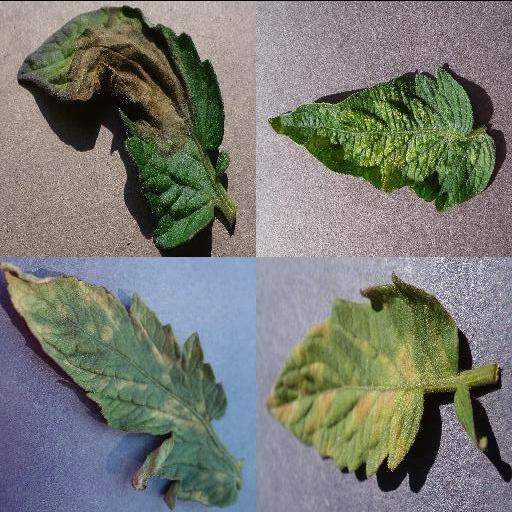Late Blight: (18, 4, 232, 246)
Leaf Mold: (0, 262, 246, 508), (265, 271, 459, 477)
Spider Mites: (267, 67, 497, 213)
